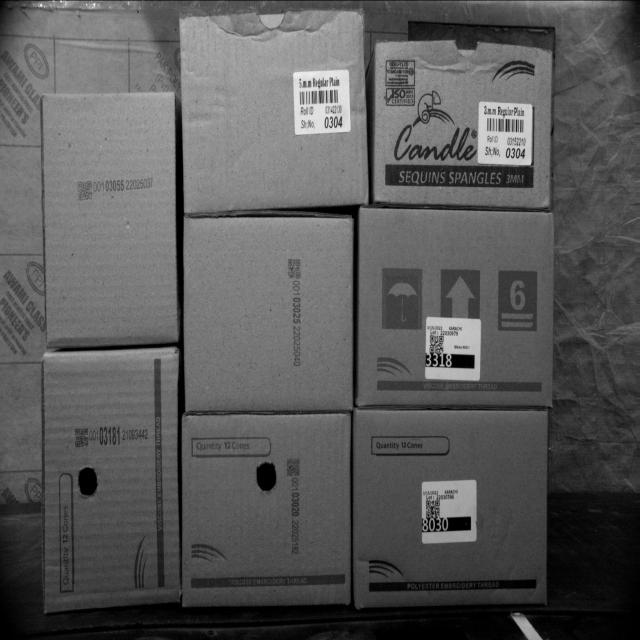cardboxes: (354, 409, 546, 610), (360, 209, 554, 401), (177, 17, 371, 205), (45, 347, 179, 612), (181, 214, 357, 410), (40, 97, 178, 346), (180, 418, 354, 603), (374, 44, 552, 216)
